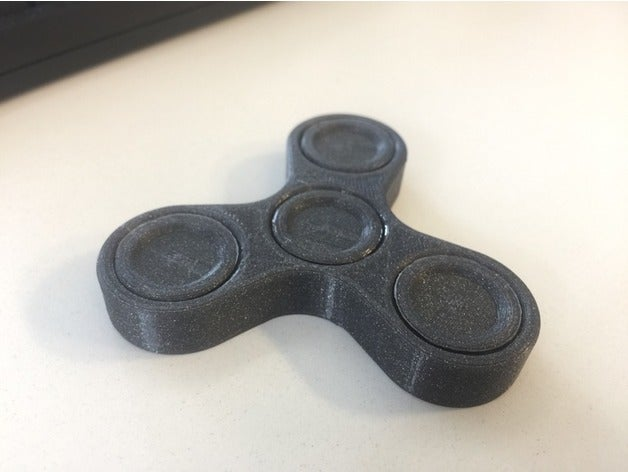Good: (88, 102, 559, 421)
